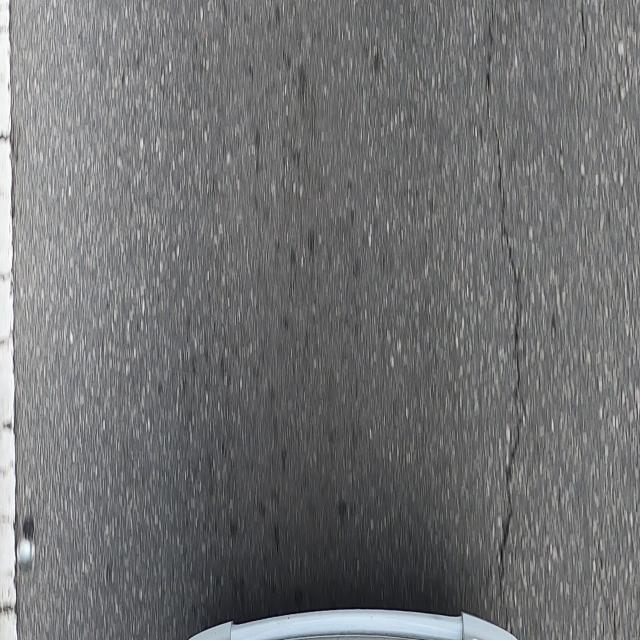Retak-Memanjang: (482, 33, 523, 627)
